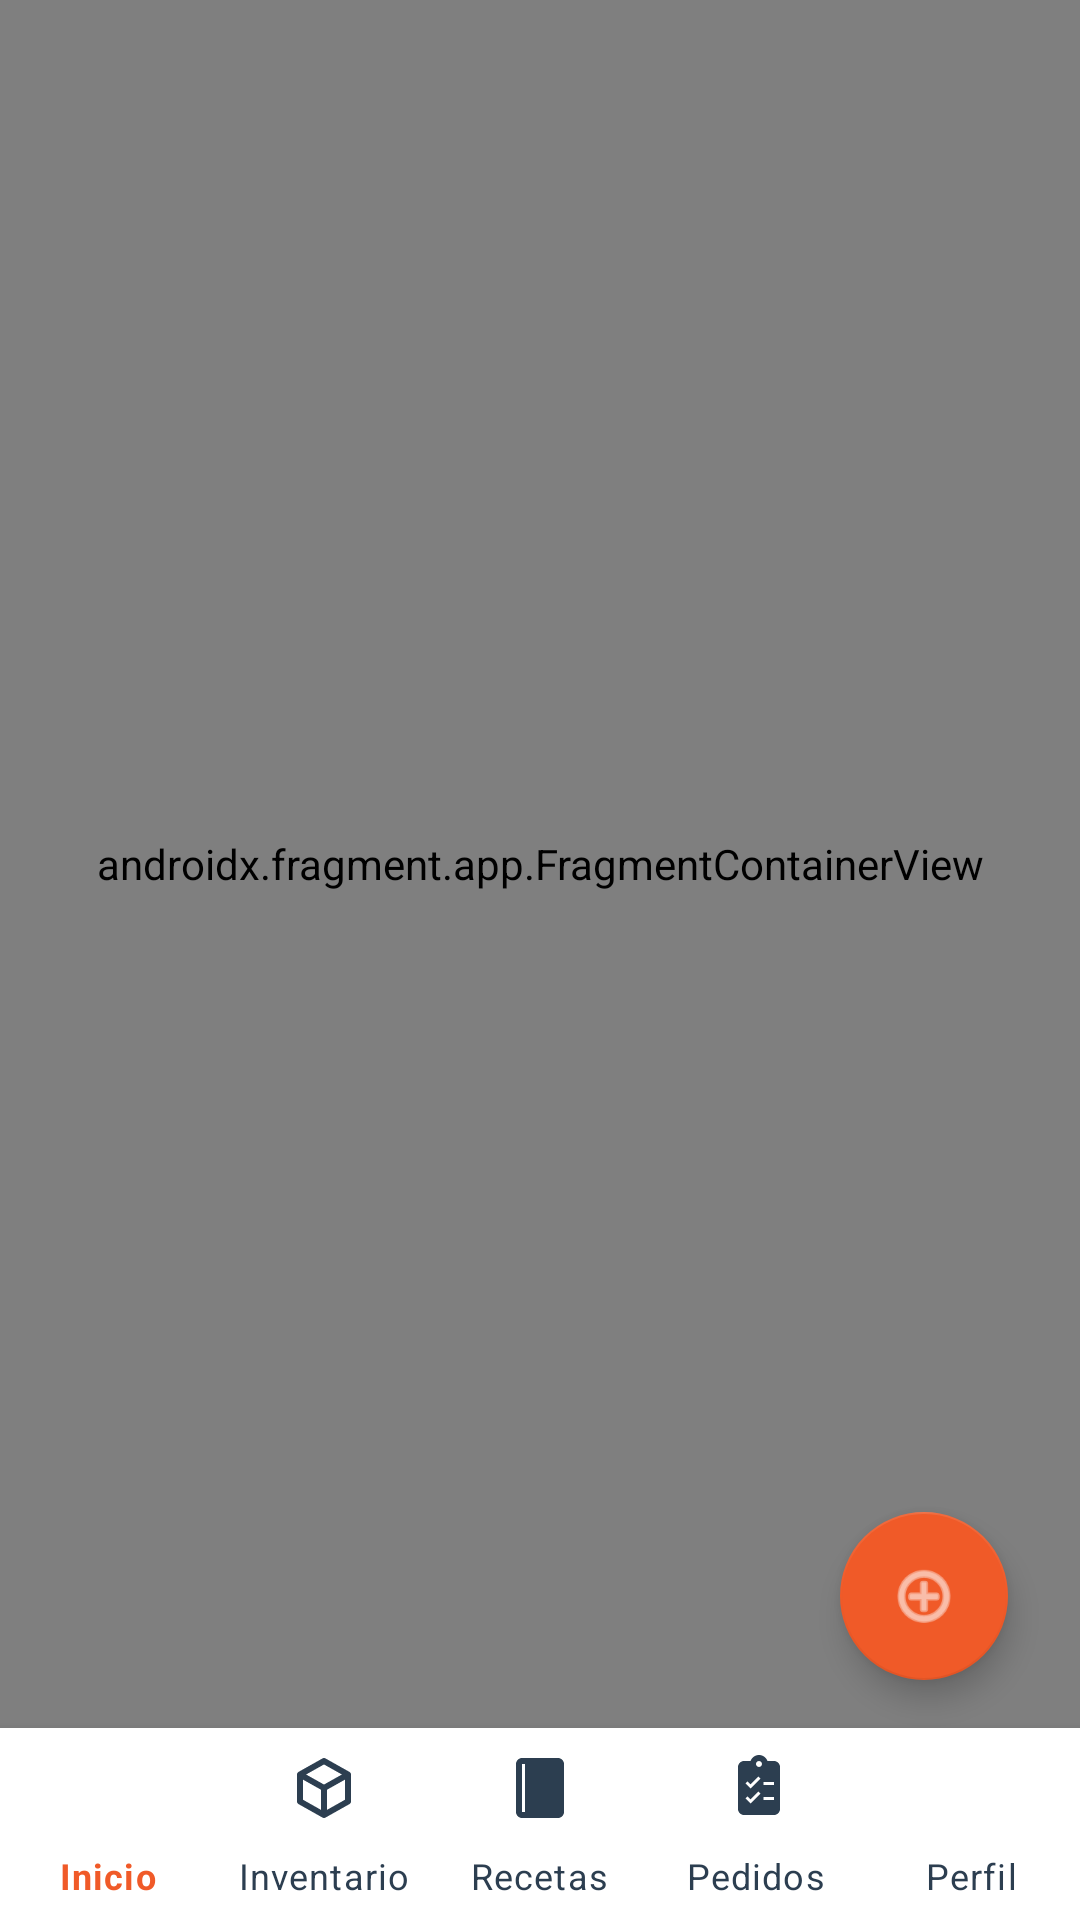

Named icons in this screenshot (1080px x 1920px) and their centers, point (x, y):
Agregar: point (924, 1596)
